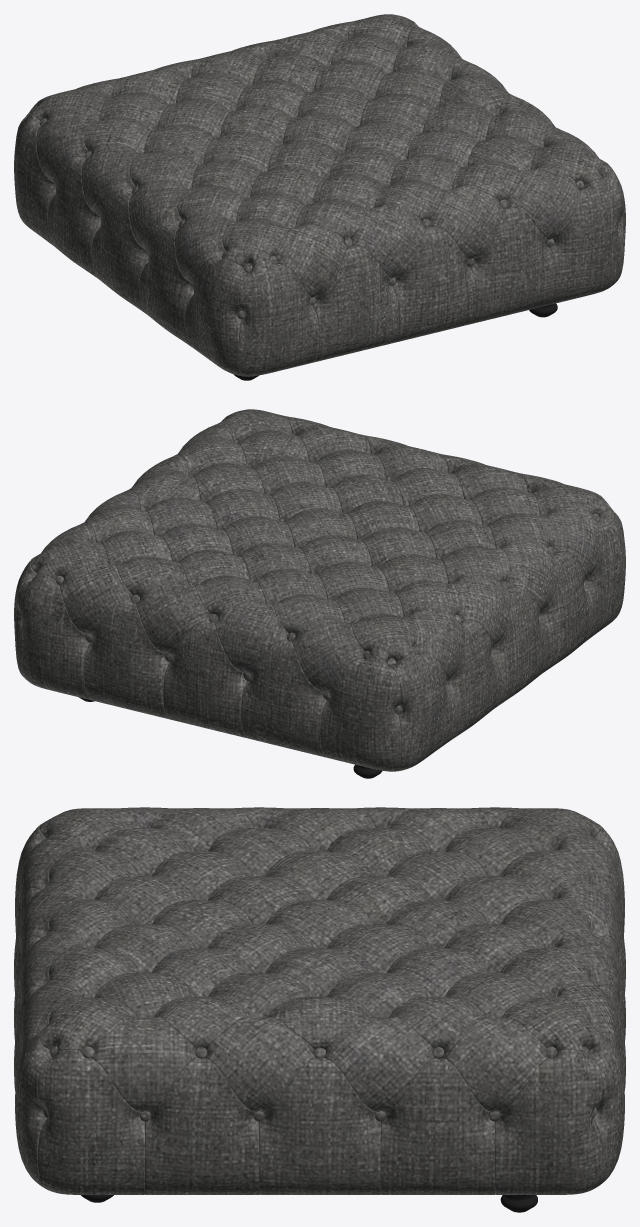
The model's file is largeChair.gltf.
3 renders of one model, top to bottom at view 1: azimuth 30°, elevation 25°; view 2: azimuth 150°, elevation 25°; view 3: azimuth 270°, elevation 25°, orthographic. The views are drawn at different scales.
Visible parts, largest first — view 1: Branagh_Large_Ottoman_PearlGrey; view 2: Branagh_Large_Ottoman_PearlGrey; view 3: Branagh_Large_Ottoman_PearlGrey.
Boxes of the visible parts, <box> form: Branagh_Large_Ottoman_PearlGrey: <box>14,14,625,380</box>; Branagh_Large_Ottoman_PearlGrey: <box>14,409,625,778</box>; Branagh_Large_Ottoman_PearlGrey: <box>14,807,625,1212</box>.
Size of what is drawn, in the model's own units: 103 by 38.13 by 102.
